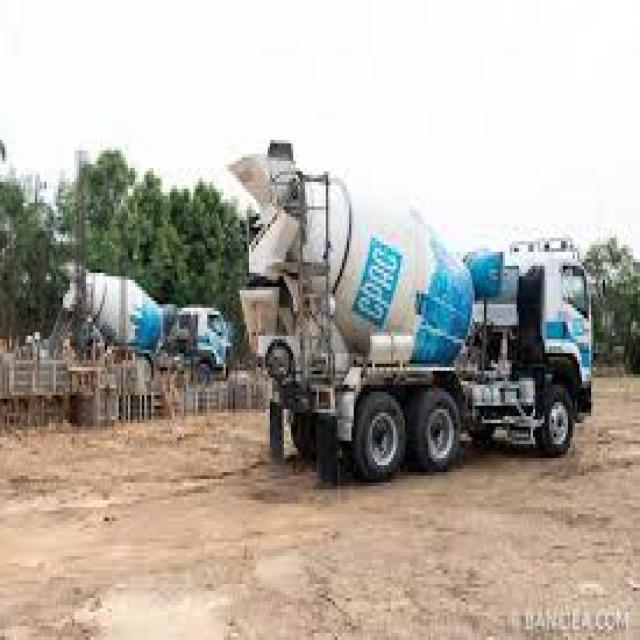cement_mixer_truck: (216, 136, 607, 484), (59, 249, 230, 386)
